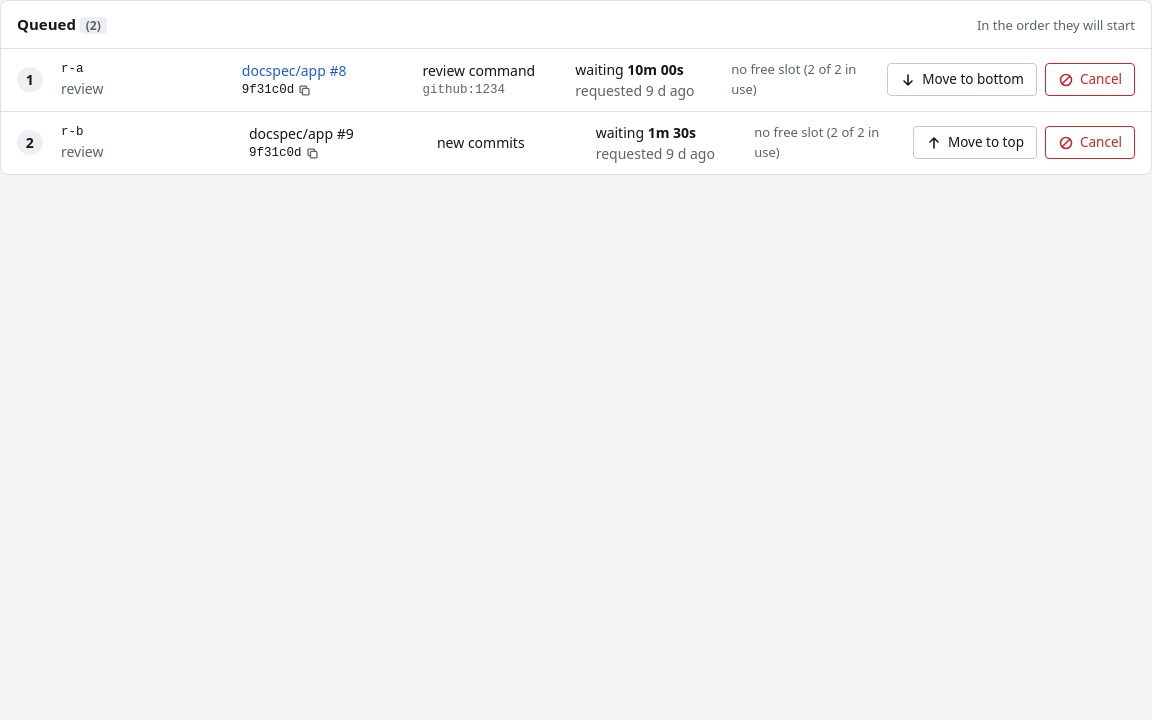
Test case: Queued › says why a cancel did not go through
Step 1. Click the button with class "danger" in the row of "r-a" → (1090, 80), box [1045,63,1135,96]
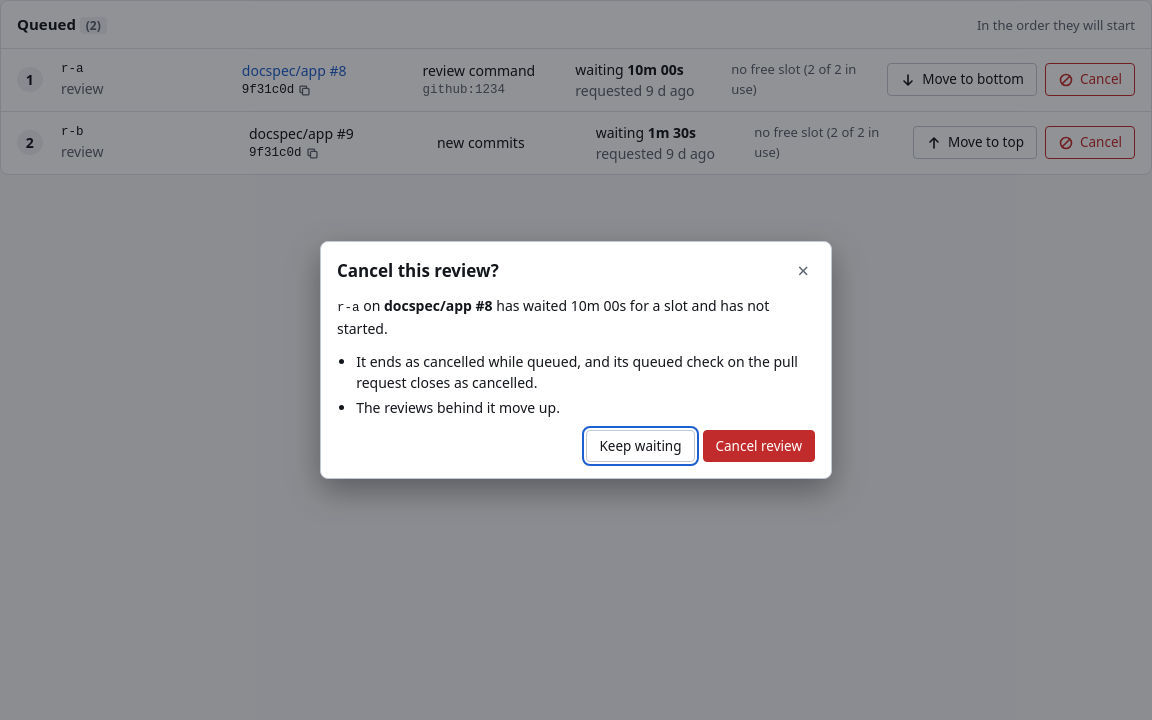
Step 2. Click the button "Cancel review" → (759, 446), box [702,430,815,462]
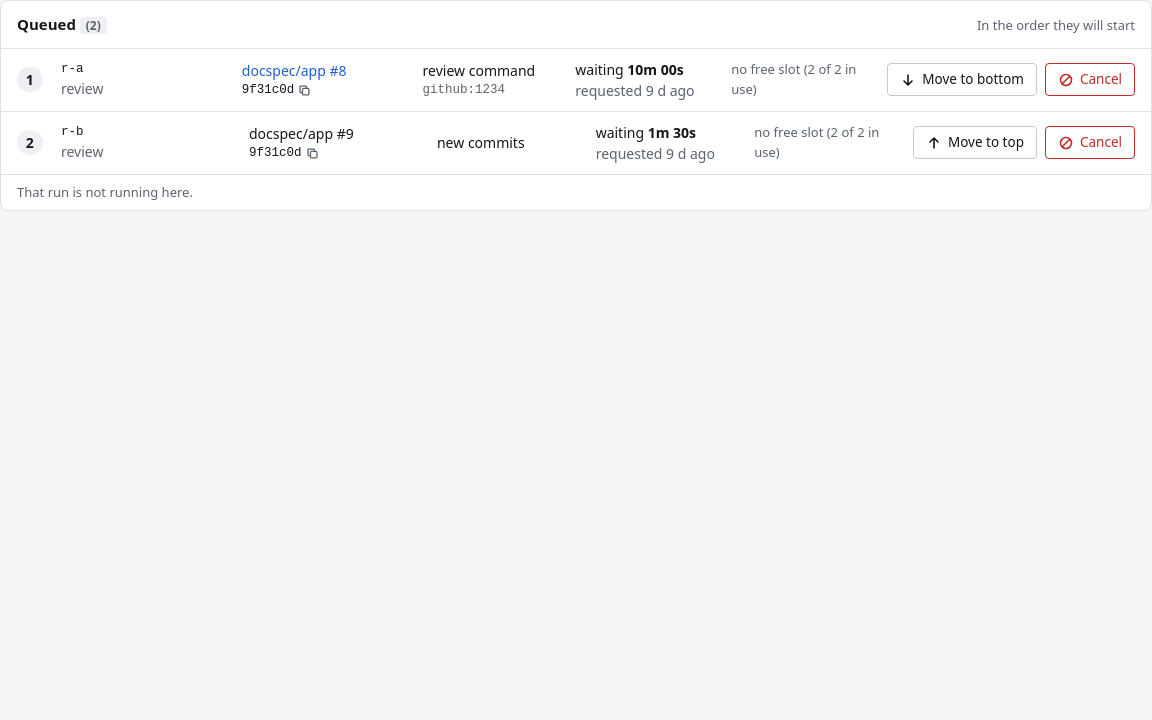
Result: the message "That run is not running here." is shown at [17,182,193,202]
